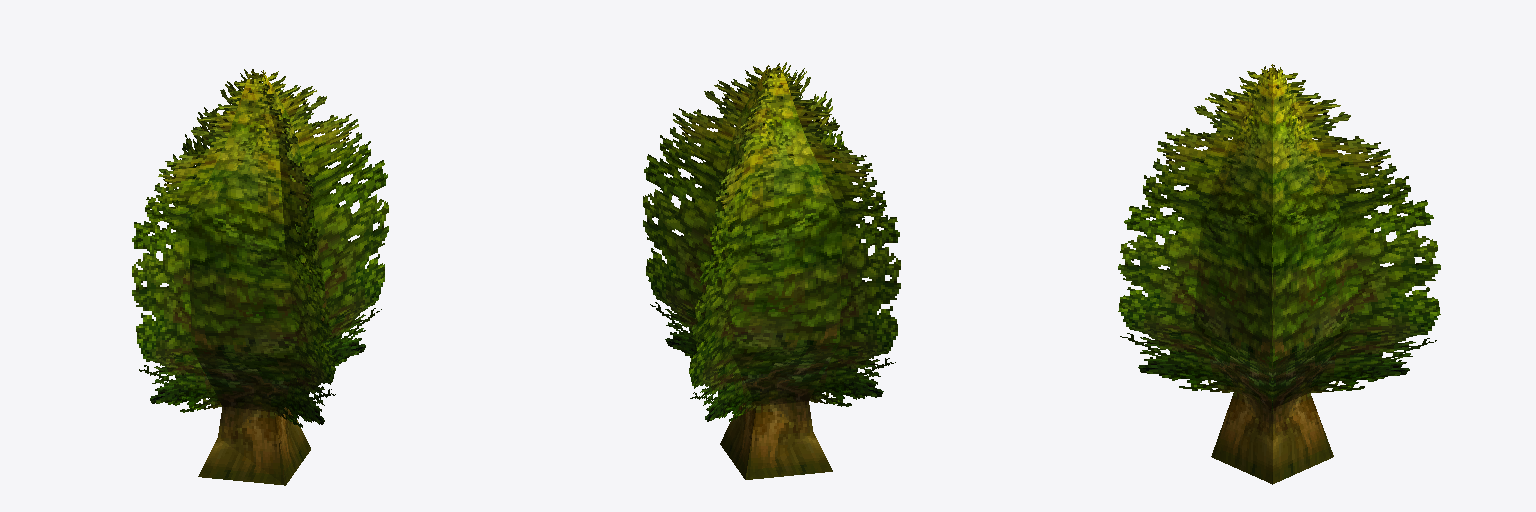
3 renders of one model, left to right at view 1: azimuth 30°, elevation 25°; view 2: azimuth 150°, elevation 25°; view 3: azimuth 270°, elevation 25°, orthographic.
Visible parts, largest first — view 1: Body_Body_Mesh; view 2: Body_Body_Mesh; view 3: Body_Body_Mesh.
Part boxes in pixels (x1,y1,x2,y2): Body_Body_Mesh: (132, 69, 388, 485); Body_Body_Mesh: (643, 62, 900, 479); Body_Body_Mesh: (1118, 64, 1440, 484).
Bounding box in the file's own units: 3.81 × 5.69 × 4.22.
1 materials, 1 textured.